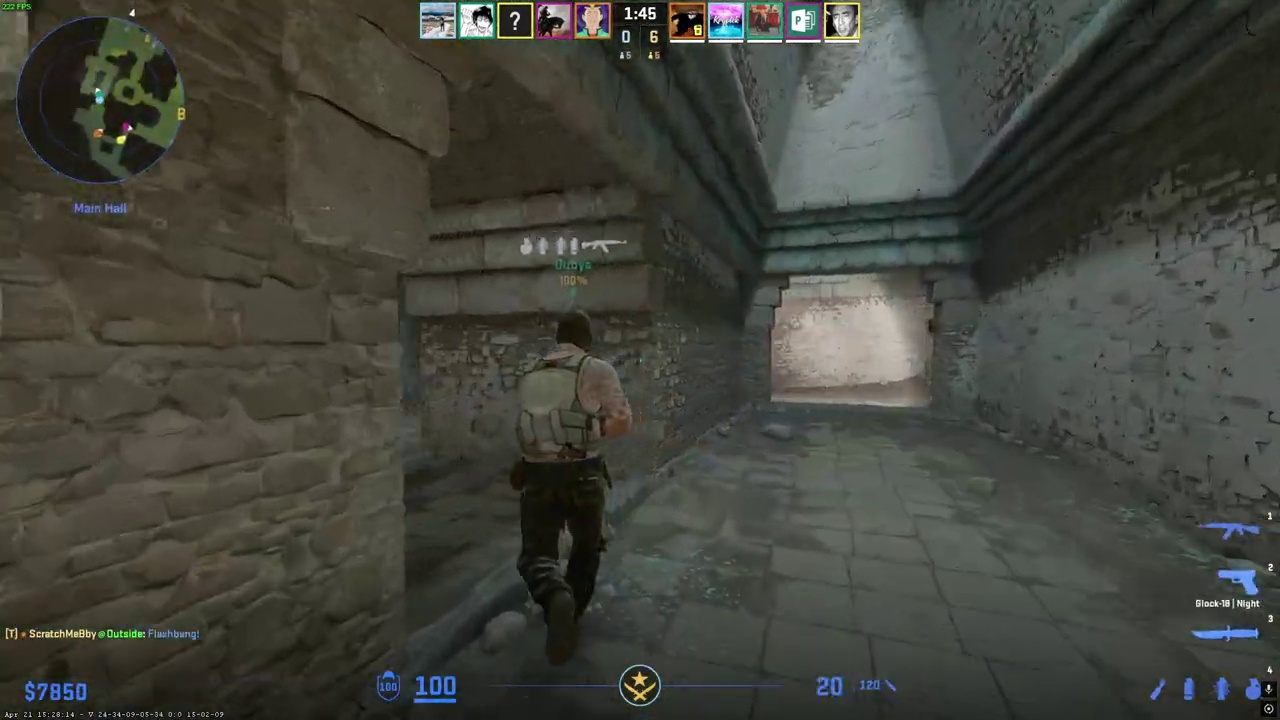Terrorist: (509, 309, 627, 666)
